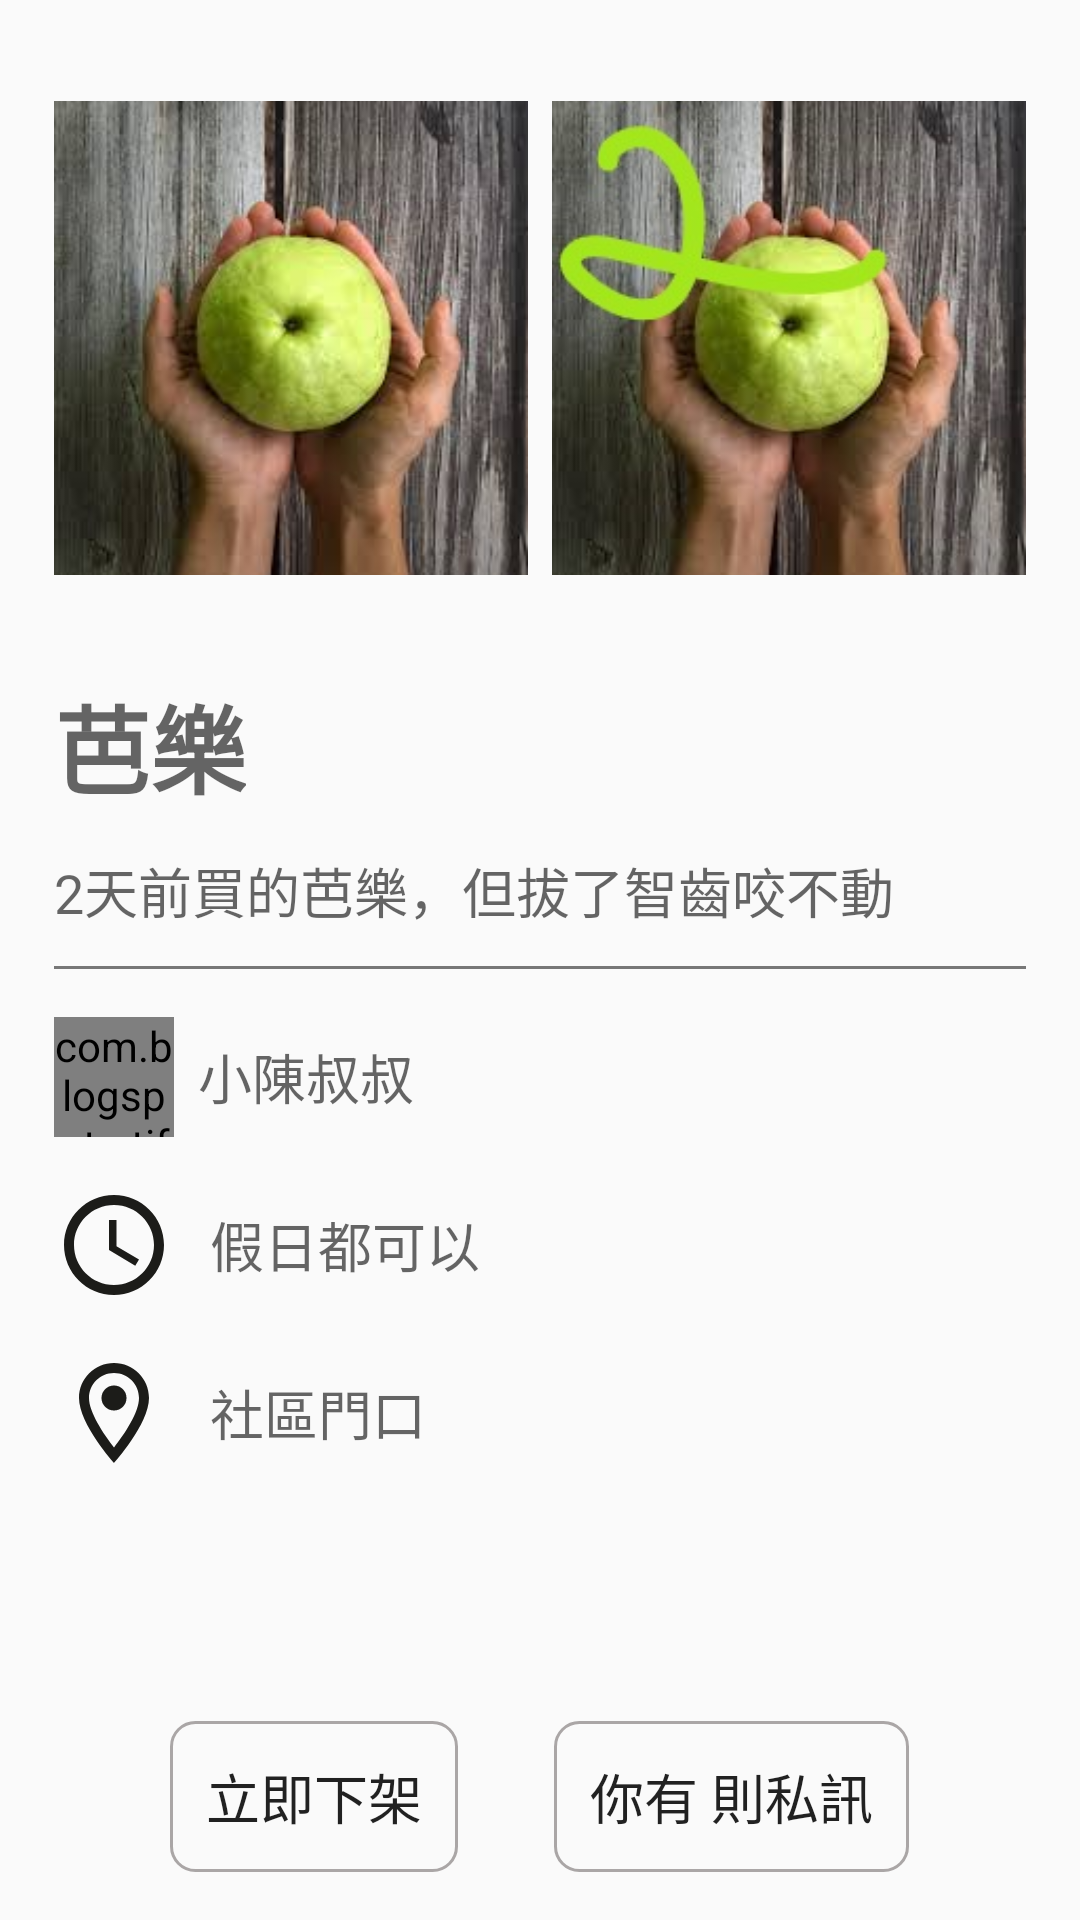

Named icons in this screenshot (1080x1920) and their bounding boxes, (x1, y1, x2, y2):
location: (79, 1363, 149, 1463)
time: (64, 1195, 164, 1295)
